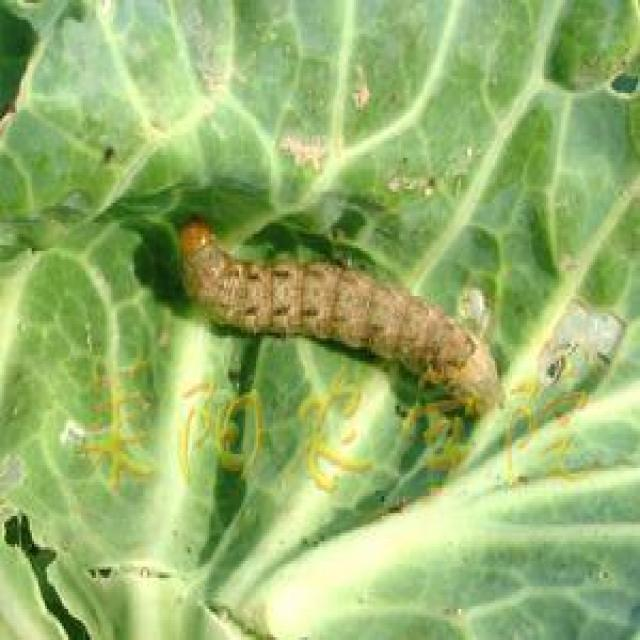BeetArmyWorm-Larva-: (162, 211, 520, 425)
